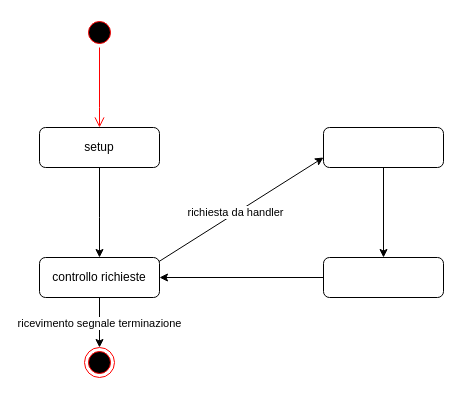
The diagram is 461 pixels wide and 395 high, and some of its shapes have lost their labels. The centre of each missing label's shape, as x and y in pixels:
"accetta connessione" belongs at (x=383, y=147).
"processa richiesta" belongs at (x=383, y=277).
